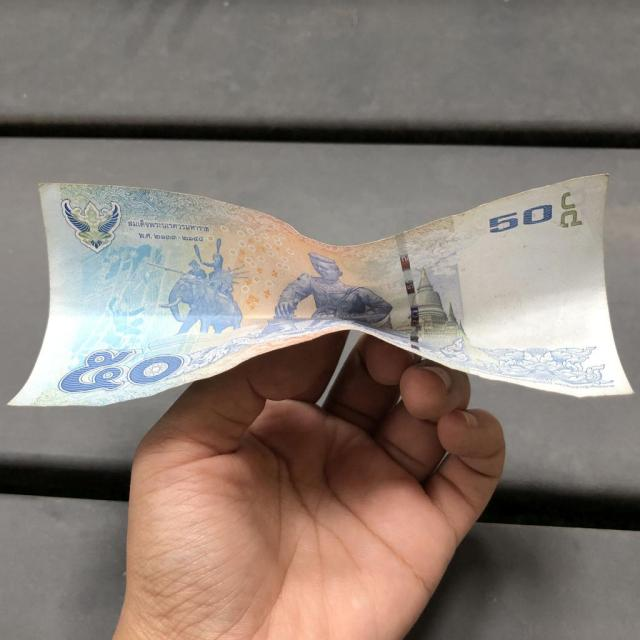THAI50: (8, 174, 634, 409)
